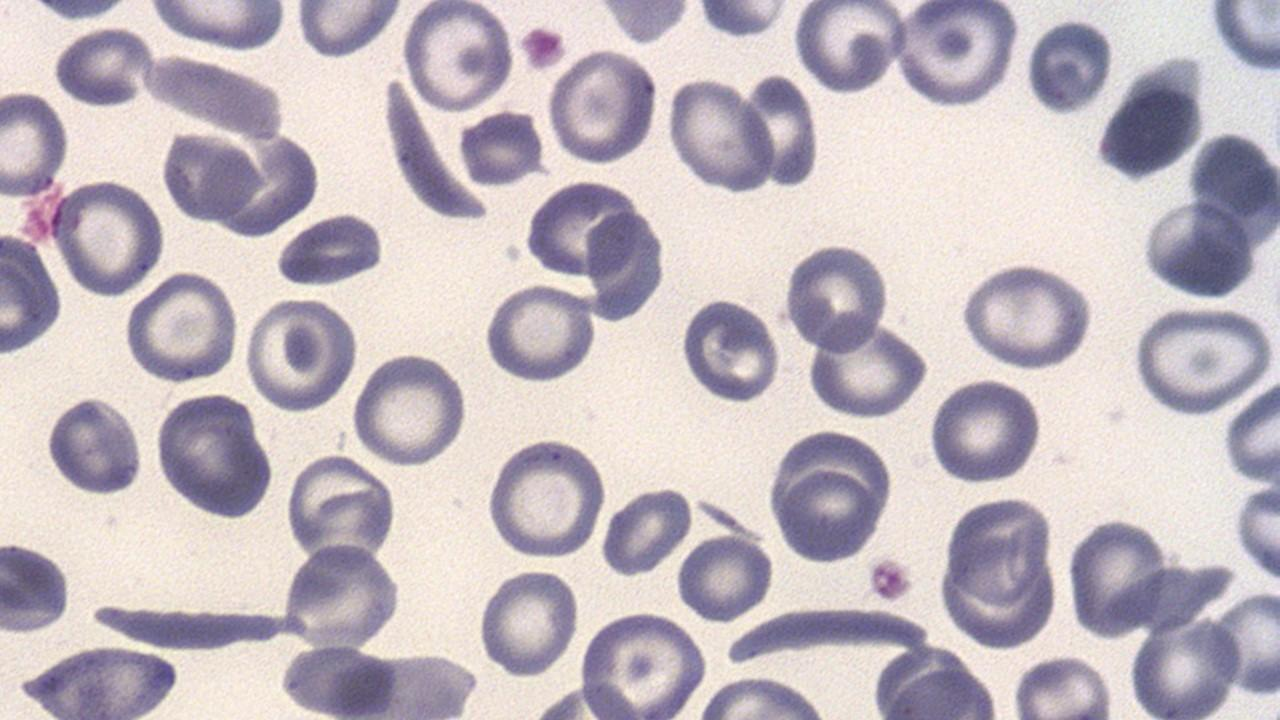Platelets: (1137, 203, 1257, 300), (39, 394, 146, 498), (1022, 15, 1116, 118), (270, 214, 387, 288), (517, 24, 567, 74)
RBC: (0, 217, 390, 698), (0, 0, 417, 328), (1128, 302, 1274, 416), (151, 387, 273, 522), (956, 257, 1098, 372), (484, 433, 610, 559), (578, 608, 710, 718), (242, 292, 360, 414), (890, 1, 1021, 110), (49, 176, 166, 298), (348, 351, 470, 466), (664, 73, 776, 196), (544, 46, 658, 166), (523, 174, 651, 280), (123, 267, 239, 383), (1066, 513, 1170, 639), (399, 1, 516, 112), (944, 490, 1054, 606), (925, 377, 1044, 484), (782, 238, 893, 352), (806, 317, 930, 419), (480, 281, 600, 384), (283, 544, 400, 648), (284, 454, 397, 561), (475, 566, 582, 679), (678, 293, 784, 405), (1138, 200, 1256, 300), (1128, 614, 1242, 716), (43, 392, 147, 498), (790, 0, 905, 95), (778, 468, 880, 565), (739, 71, 821, 188), (672, 532, 776, 622), (600, 482, 694, 581), (157, 131, 256, 224), (274, 207, 387, 288), (1, 221, 65, 361), (49, 23, 154, 106), (0, 87, 71, 200), (1209, 586, 1279, 700), (0, 538, 74, 634), (457, 109, 544, 188), (148, 1, 283, 51), (292, 1, 405, 60), (1010, 654, 1115, 716), (1222, 376, 1280, 488), (876, 668, 1004, 718), (1231, 474, 1279, 588), (1209, 1, 1279, 77)
WBC: (794, 0, 1280, 558), (1090, 49, 1210, 189), (1223, 360, 1279, 596), (1138, 194, 1260, 298), (13, 644, 188, 716), (578, 208, 670, 325)
